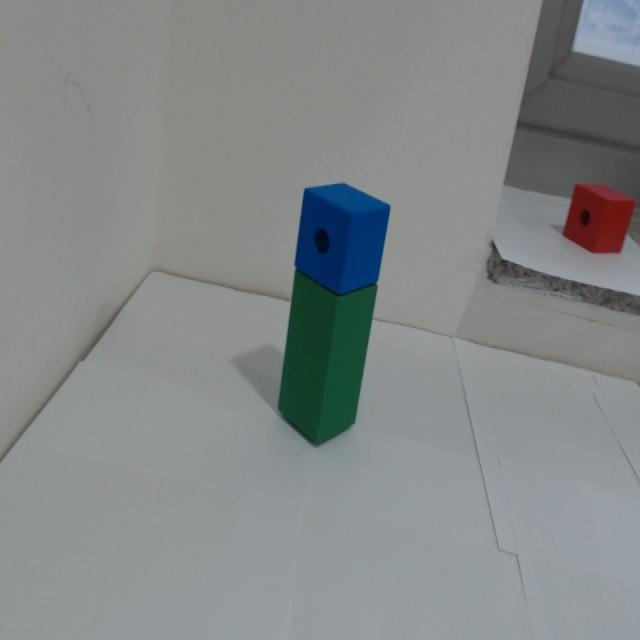cube: (276, 160, 417, 299)
